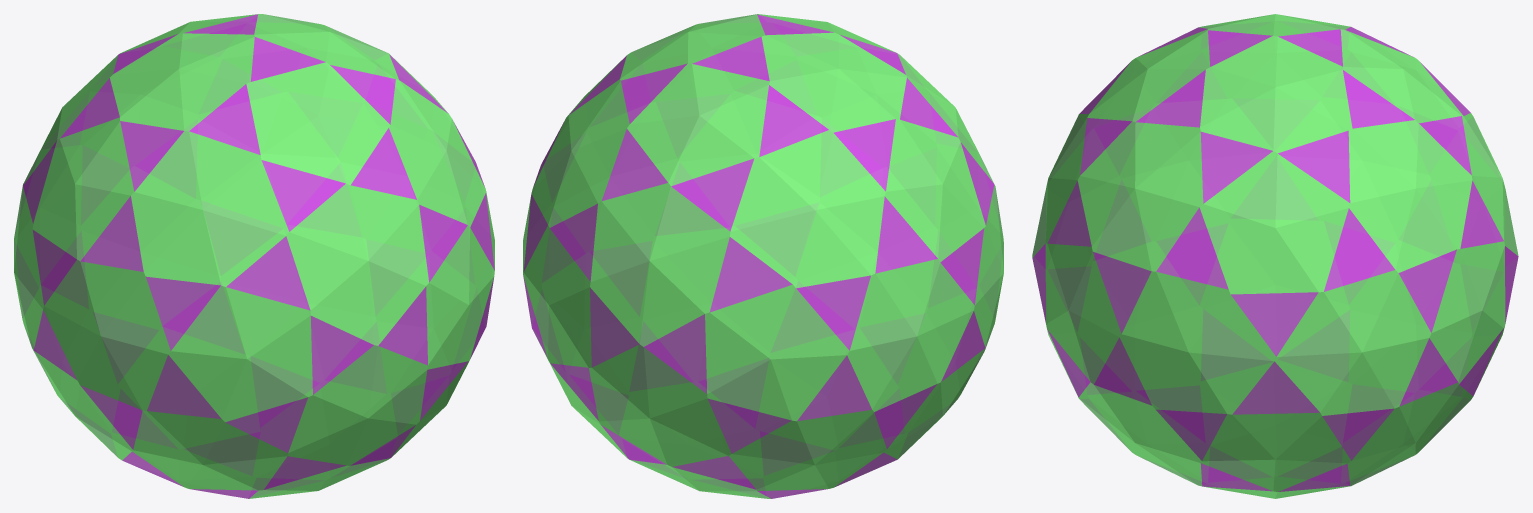
The model's file is BiscribedPropelloPentakisDodecahedron.obj.
The picture shows the model from 3 angles, left to right: view 1: azimuth 30°, elevation 25°; view 2: azimuth 150°, elevation 25°; view 3: azimuth 270°, elevation 25°; orthographic projection.
Bounding box in the file's own units: 2 × 2 × 2.
